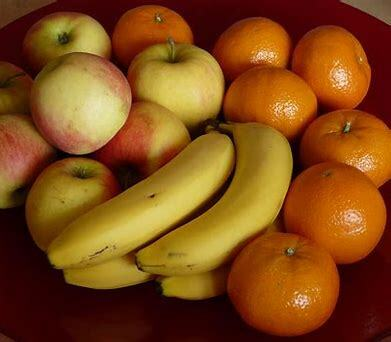apple: (30, 52, 134, 154), (24, 157, 122, 251), (98, 101, 191, 193), (127, 43, 225, 128), (22, 12, 112, 86)
banana: (51, 134, 238, 266), (175, 125, 289, 262)
orange: (228, 232, 341, 334), (286, 162, 386, 265), (300, 109, 391, 191), (292, 24, 373, 111), (225, 68, 317, 144), (111, 4, 194, 74), (213, 15, 293, 83)
